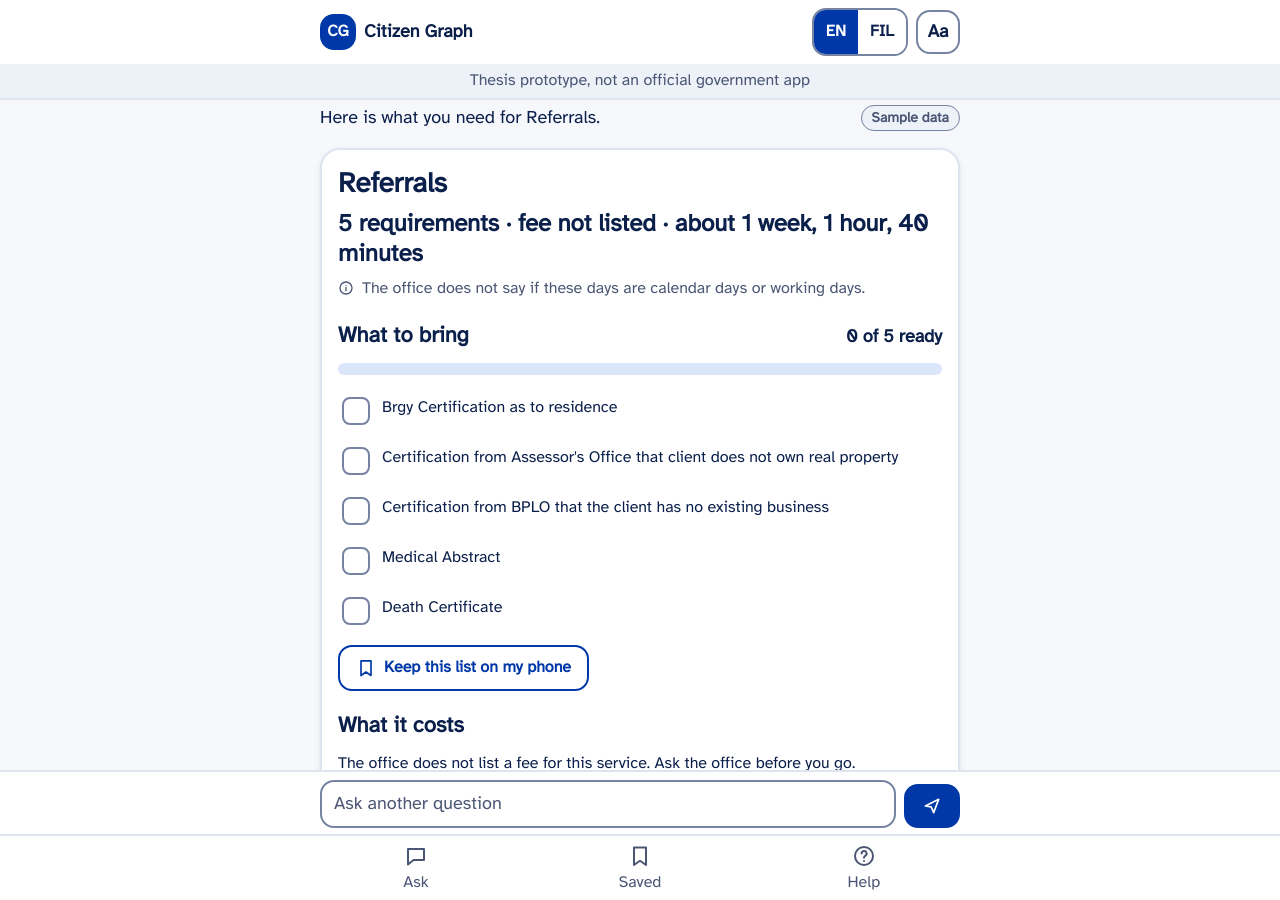
Filipino time display › leaves a time it does not understand exactly as the charter has it
(page scrolled)
Click the button with aria-label "Filipino".
click(882, 32)  # box [858,10,906,54]
(page scrolled)
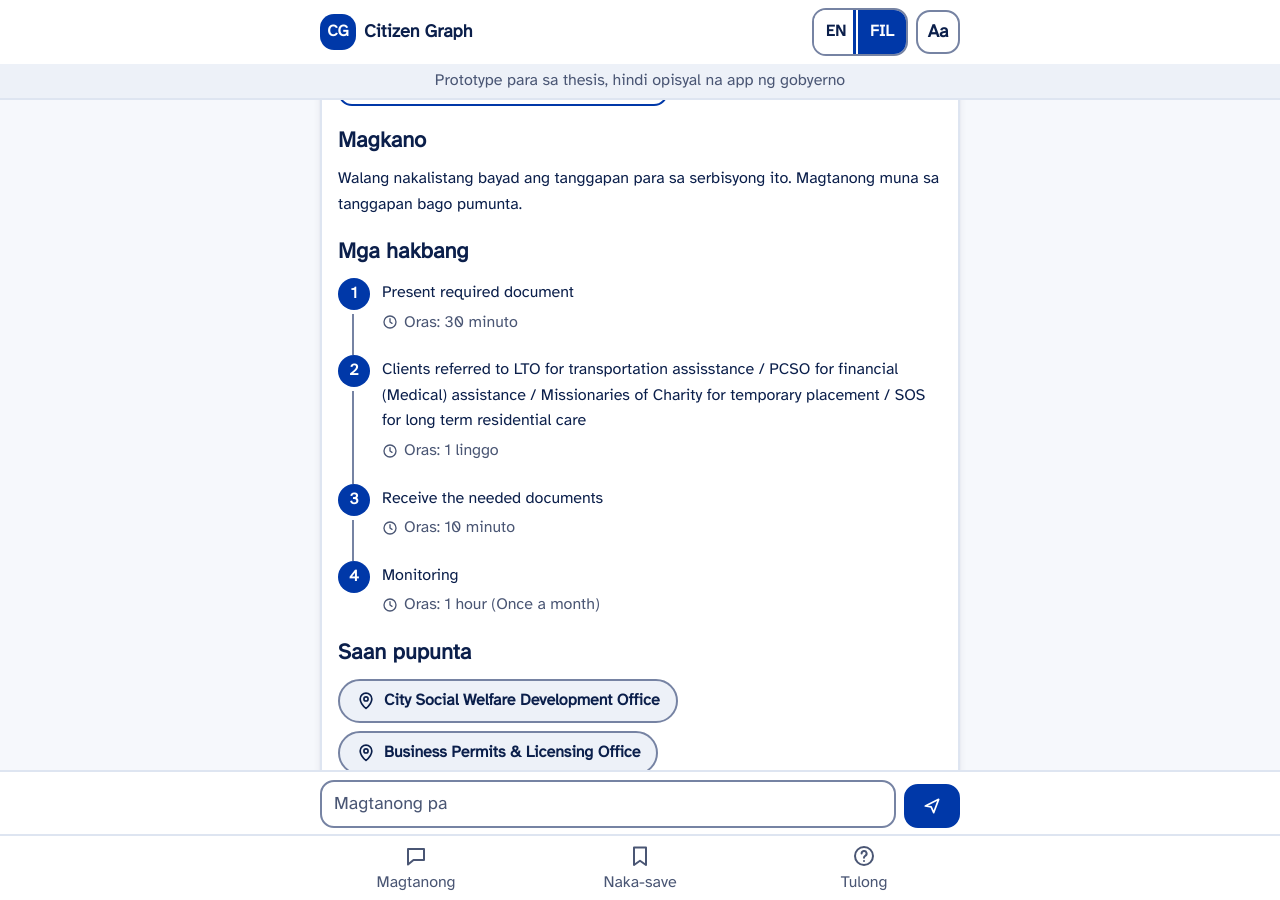
Expected: the text "Oras: 1 hour (Once a month)" is shown, [382,592,600,618]
Expected: the text "Oras: 1 linggo" is shown, [382,438,499,464]
